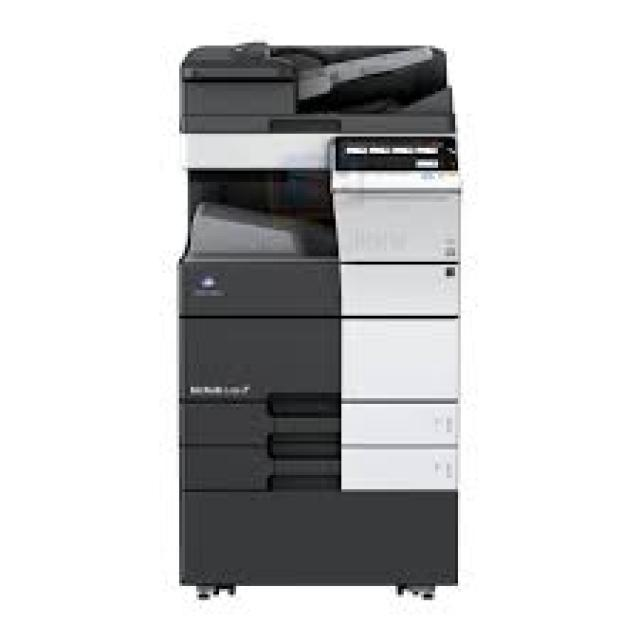printer: (173, 40, 461, 600)
